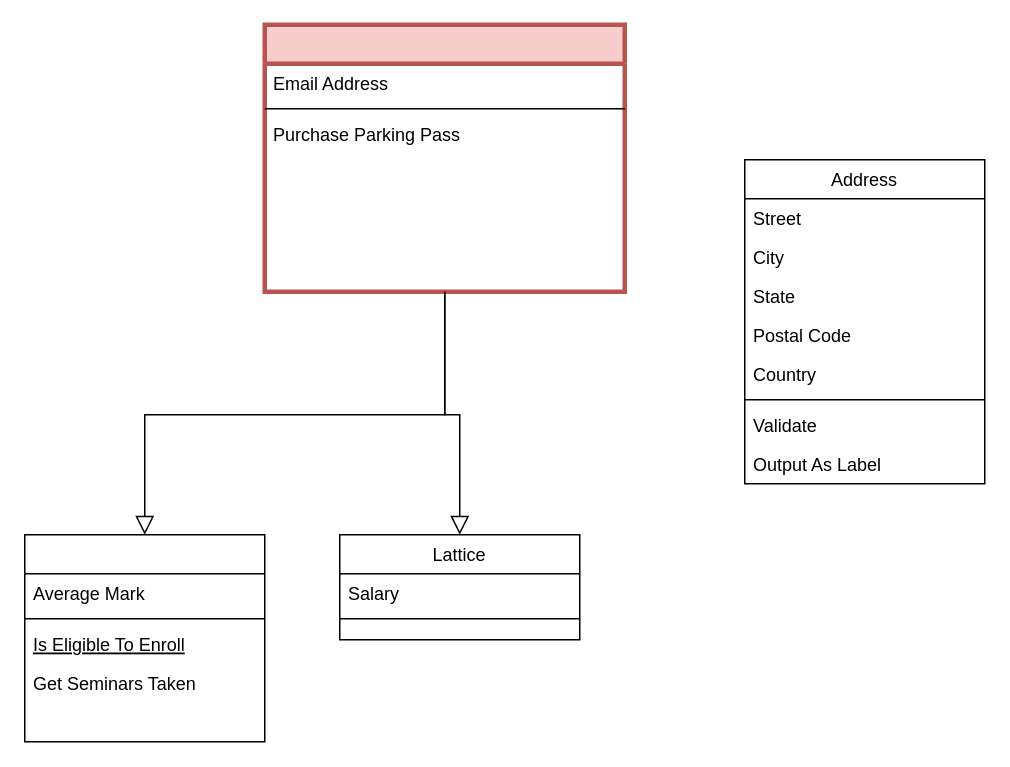
The diagram is 1010 pixels wide and 767 high, and some of its shapes have lost their labels. Here are the shapes that lost their labels. From the top down, the box of each, then its label:
(262, 22, 626, 293): CSR3D
(23, 533, 265, 742): Beam
